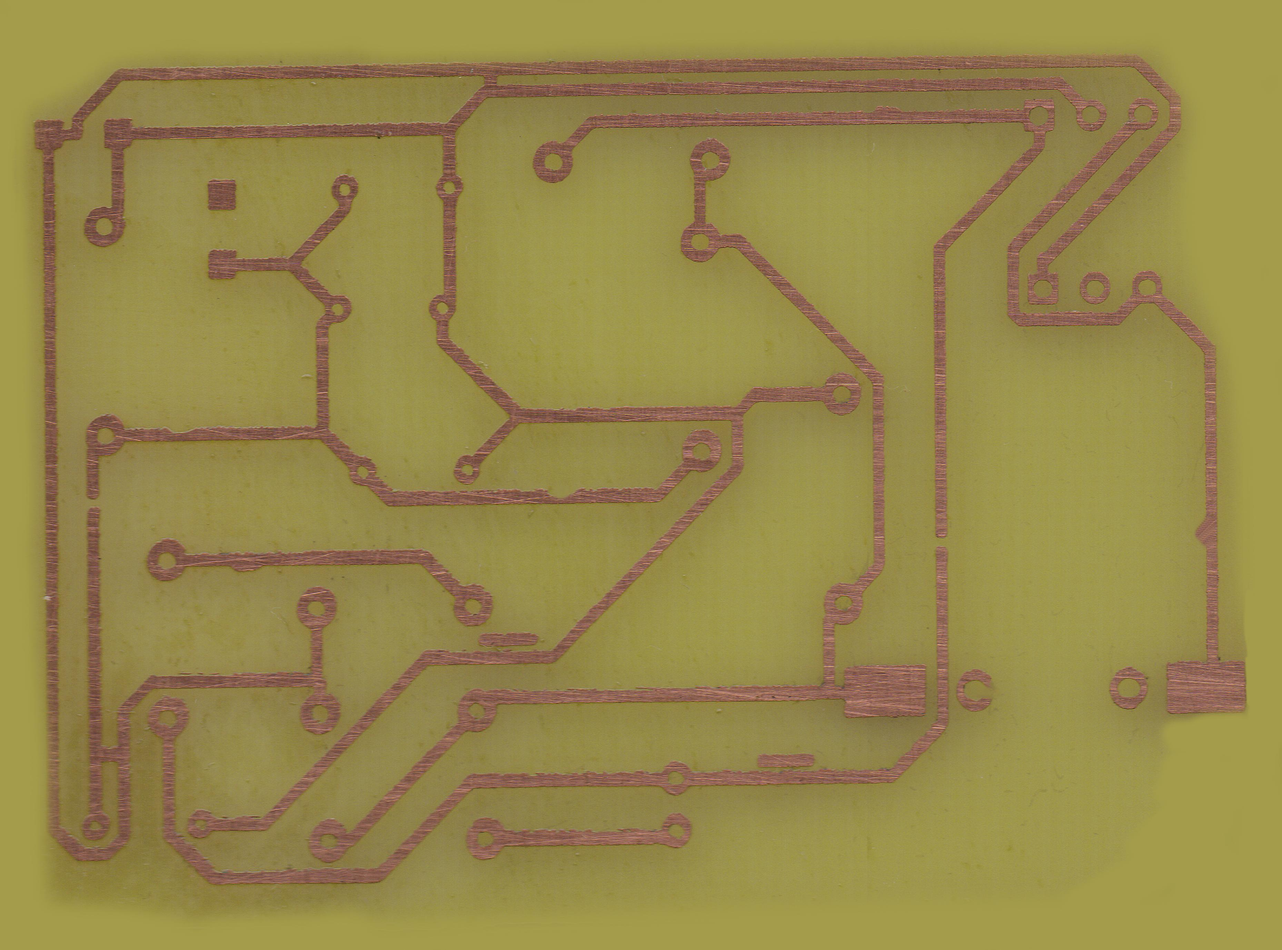missing_hole: (956, 669, 994, 712)
mouse_bite: (538, 485, 582, 503), (163, 425, 199, 440)
open_circuit: (86, 487, 100, 517), (934, 527, 948, 556)
short: (87, 743, 132, 768), (479, 61, 503, 97)
spur: (1193, 514, 1218, 551), (226, 552, 266, 574)
spurious_copper: (477, 631, 542, 649), (755, 751, 817, 769)
